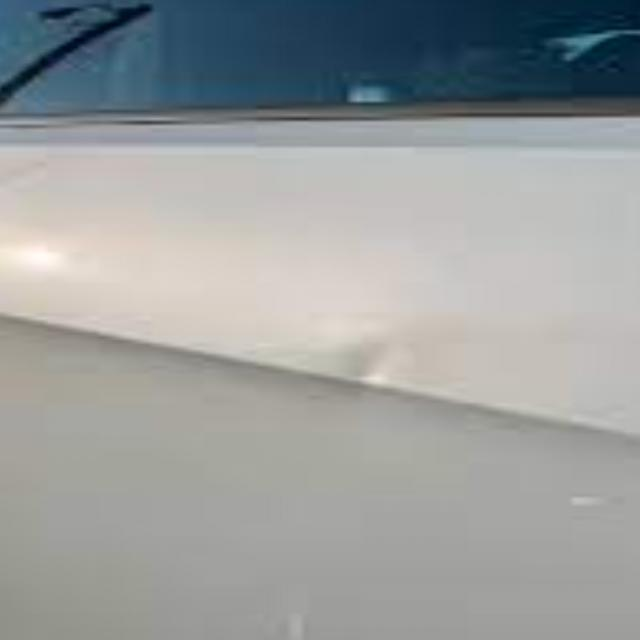dents: (340, 317, 404, 407)
